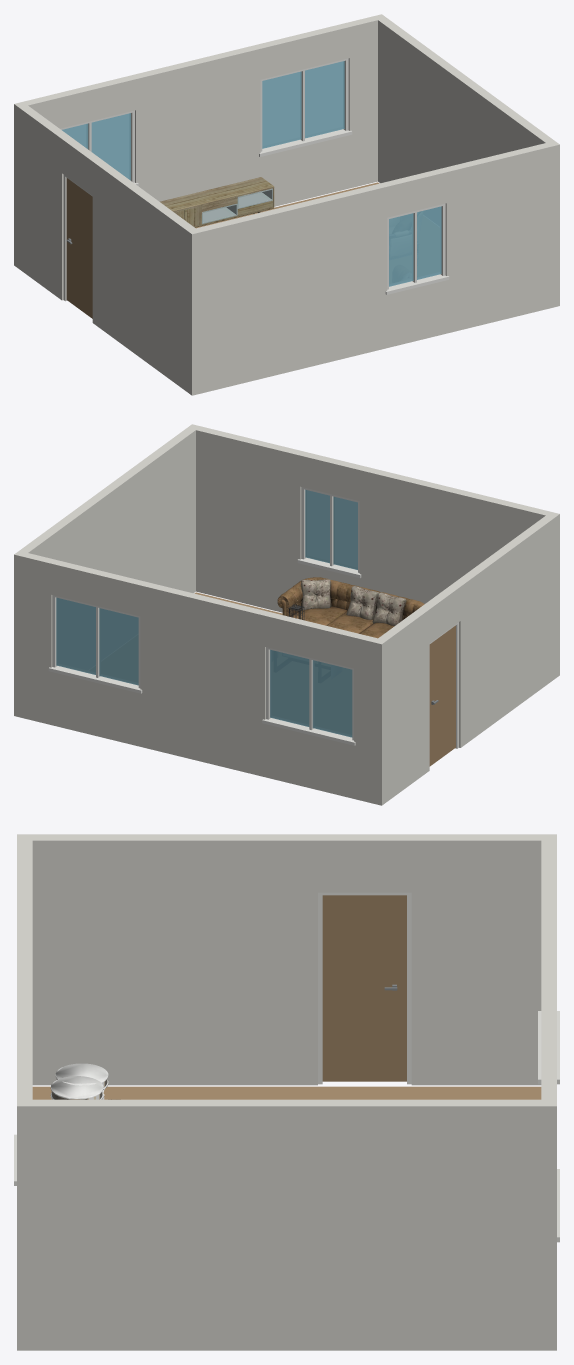
File: atiss.glb
3 views of the same model, one above another, from view 1: azimuth 30°, elevation 25°; view 2: azimuth 150°, elevation 25°; view 3: azimuth 270°, elevation 25° (orthographic). The views are drawn at different scales.
Parts seen in each view (by area): view 1: wall|scenesmith_043__R00|0, wall|scenesmith_043__R00|1, wall|scenesmith_043__R00|2, wall|scenesmith_043__R00|3, wall|scenesmith_043__R00|1 Window 0 | glazing, wall|scenesmith_043__R00|0 Window 0 | glazing, raw_model.001, wall|scenesmith_043__R00|2 Door 0 | wood leaf, wall|scenesmith_043__R00|1 Window 0 | jamb, wall|scenesmith_043__R00|0 Window 0 | jamb, wall|scenesmith_043__R00|2 Door 0 | jamb; view 2: wall|scenesmith_043__R00|1, wall|scenesmith_043__R00|0, wall|scenesmith_043__R00|2, wall|scenesmith_043__R00|3, wall|scenesmith_043__R00|1 Window 0 | glazing, raw_model.002, wall|scenesmith_043__R00|1 Window 0 | jamb, wall|scenesmith_043__R00|0 Window 0 | glazing, wall|scenesmith_043__R00|2 Door 0 | wood leaf, wall|scenesmith_043__R00|0 Window 0 | jamb; view 3: wall|scenesmith_043__R00|3, wall|scenesmith_043__R00|2, wall|scenesmith_043__R00|2 Door 0 | wood leaf, wall|scenesmith_043__R00|1, floor, wall|scenesmith_043__R00|0, wall|scenesmith_043__R00|2 Door 0 | jamb, solid_001.001, wall|scenesmith_043__R00|1 Window 0 | jamb.
Boxes of the visible parts, x1,y1,x2,y2 form: wall|scenesmith_043__R00|0: (196, 141, 559, 393); wall|scenesmith_043__R00|1: (14, 14, 386, 268); wall|scenesmith_043__R00|2: (14, 102, 200, 395); wall|scenesmith_043__R00|3: (378, 18, 559, 307); wall|scenesmith_043__R00|1 Window 0 | glazing: (62, 61, 344, 180); wall|scenesmith_043__R00|0 Window 0 | glazing: (389, 206, 441, 286); raw_model.001: (160, 177, 274, 227); wall|scenesmith_043__R00|2 Door 0 | wood leaf: (66, 178, 92, 318); wall|scenesmith_043__R00|1 Window 0 | jamb: (60, 58, 352, 186); wall|scenesmith_043__R00|0 Window 0 | jamb: (385, 203, 449, 294); wall|scenesmith_043__R00|2 Door 0 | jamb: (63, 175, 92, 301); wall|scenesmith_043__R00|1: (14, 551, 386, 805); wall|scenesmith_043__R00|0: (188, 424, 550, 612); wall|scenesmith_043__R00|2: (373, 512, 559, 801); wall|scenesmith_043__R00|3: (19, 424, 199, 593); wall|scenesmith_043__R00|1 Window 0 | glazing: (56, 597, 352, 737); raw_model.002: (277, 577, 424, 638); wall|scenesmith_043__R00|1 Window 0 | jamb: (48, 595, 355, 745); wall|scenesmith_043__R00|0 Window 0 | glazing: (305, 489, 357, 569); wall|scenesmith_043__R00|2 Door 0 | wood leaf: (429, 625, 455, 766); wall|scenesmith_043__R00|0 Window 0 | jamb: (297, 487, 361, 578); wall|scenesmith_043__R00|3: (17, 1099, 556, 1350); wall|scenesmith_043__R00|2: (17, 834, 556, 1085); wall|scenesmith_043__R00|2 Door 0 | wood leaf: (322, 895, 406, 1081); wall|scenesmith_043__R00|1: (541, 840, 556, 1350); floor: (32, 1086, 541, 1099); wall|scenesmith_043__R00|0: (17, 840, 32, 1106); wall|scenesmith_043__R00|2 Door 0 | jamb: (318, 892, 411, 1084); solid_001.001: (50, 1063, 108, 1099); wall|scenesmith_043__R00|1 Window 0 | jamb: (538, 1011, 559, 1242).
Bounding box in the file's own units: 6.2 × 2.63 × 5.26.
12 materials, 6 textured.
